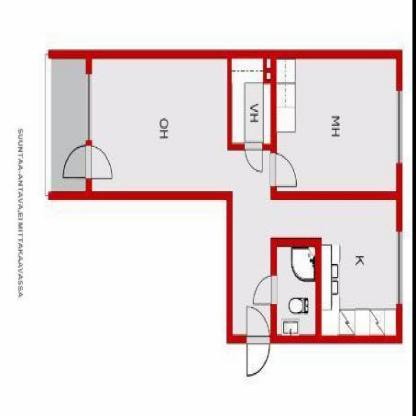door: (60, 144, 115, 182), (246, 304, 271, 378), (267, 154, 298, 189), (253, 273, 279, 311), (242, 142, 265, 175)
window: (85, 76, 93, 139), (395, 232, 402, 302), (396, 92, 402, 164)
zone: (92, 57, 395, 336), (277, 58, 396, 190), (47, 57, 85, 191), (276, 247, 316, 332)
